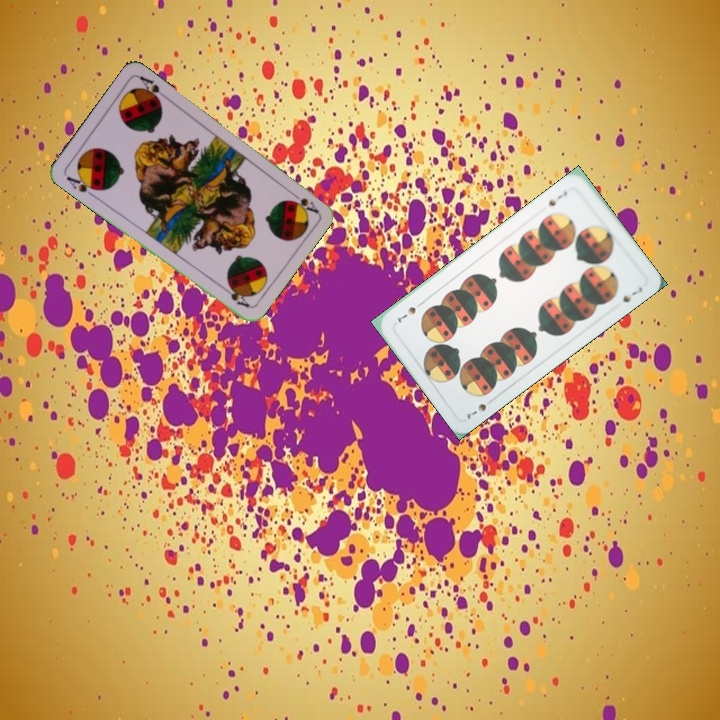S7: (463, 394, 497, 422), (544, 186, 570, 209)
SA: (62, 170, 101, 200), (285, 186, 320, 215)
